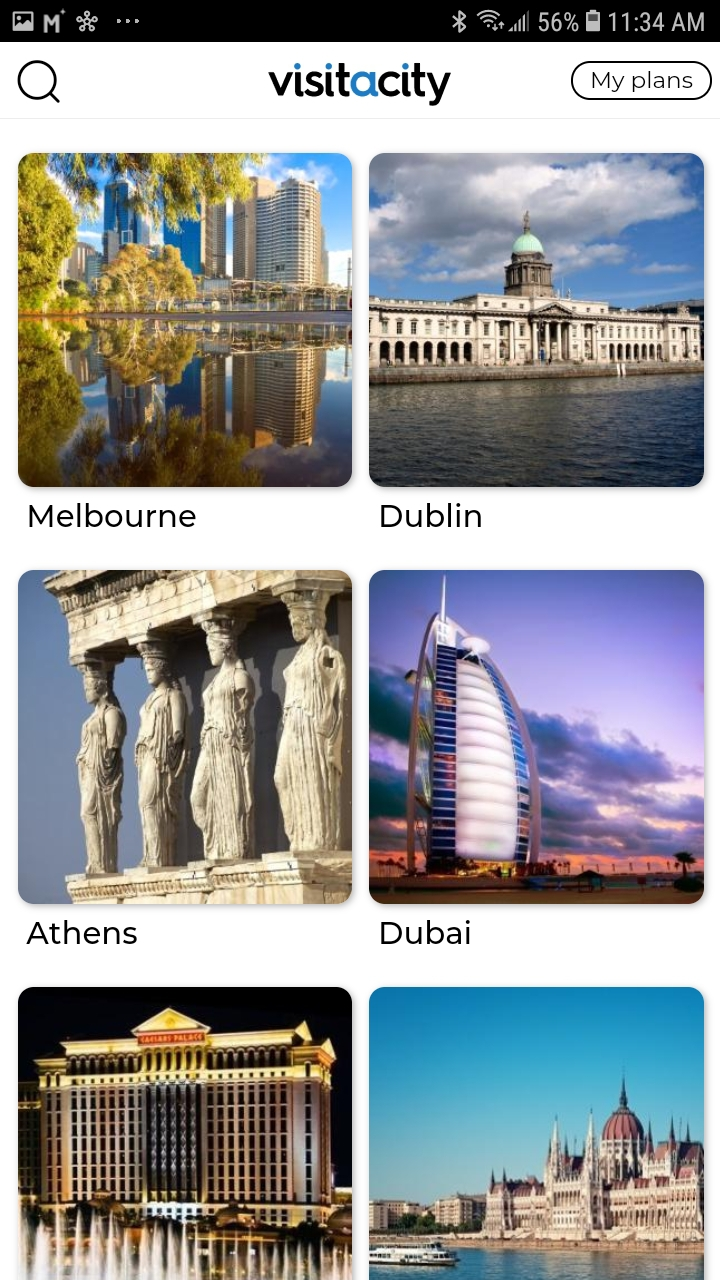Icon: (17, 60, 61, 104)
Image: (369, 570, 705, 905), (18, 570, 353, 905), (18, 153, 353, 488), (369, 153, 704, 488), (369, 987, 705, 1280), (18, 987, 353, 1280), (268, 62, 452, 107)
Text: (29, 503, 197, 528), (27, 920, 139, 945), (381, 503, 482, 529), (381, 919, 471, 945)
TextButton: (570, 62, 712, 102)
UpperTaskBar: (1, 1, 720, 43)
